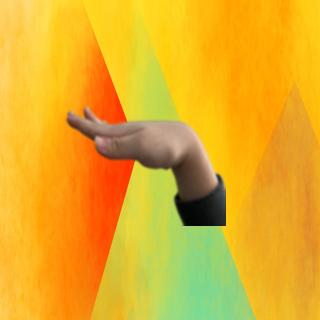Wait: (59, 98, 209, 180)
